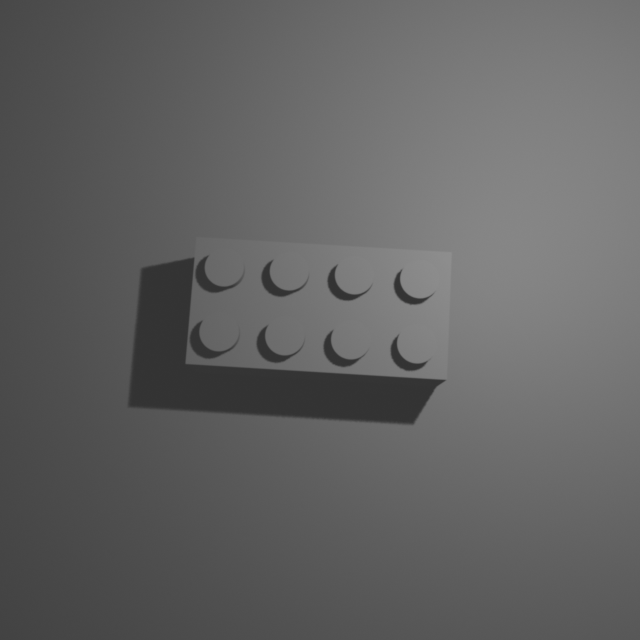lego_2x4: (183, 234, 454, 387)
